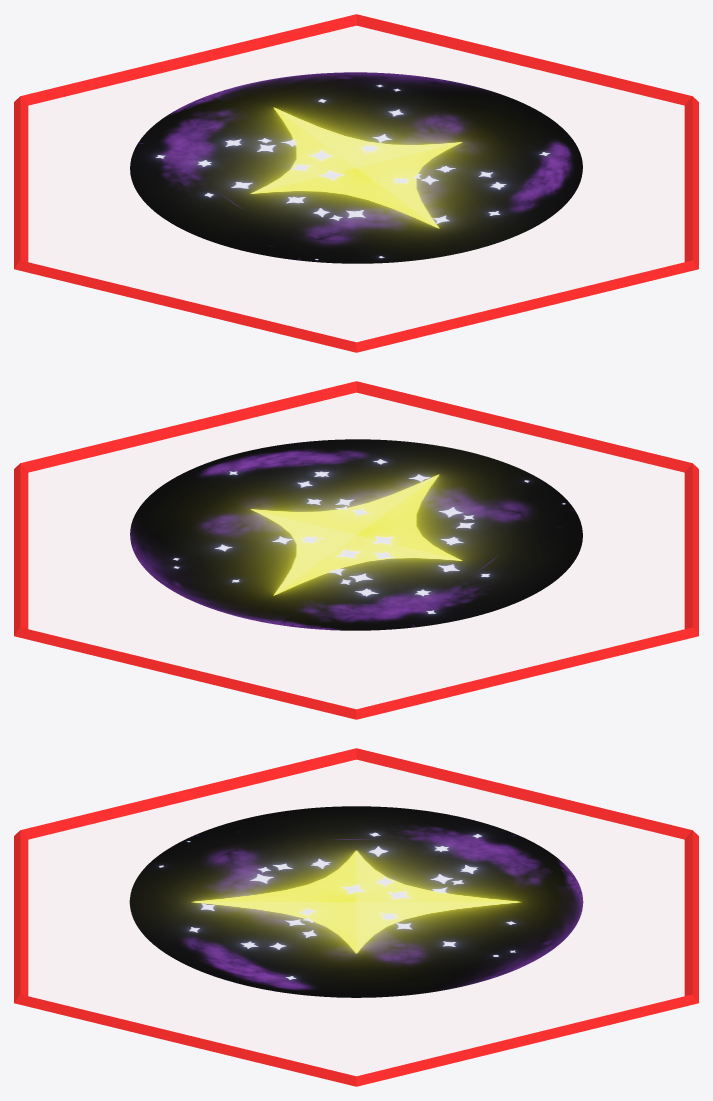
Rendered from hexagon.gltf.
3 views of the same model, one above another, from view 1: azimuth 30°, elevation 25°; view 2: azimuth 150°, elevation 25°; view 3: azimuth 270°, elevation 25° (orthographic).
Parts seen in each view (by area): view 1: Icon, Hex; view 2: Icon, Hex; view 3: Icon, Hex.
Boxes of the visible parts, x1,y1,x2,y2 form: Icon: [130, 72, 582, 263]; Hex: [14, 14, 698, 352]; Icon: [130, 439, 582, 630]; Hex: [14, 381, 698, 719]; Icon: [129, 806, 583, 997]; Hex: [14, 748, 698, 1086].
Size of the model in its own units: 2.03 by 0.05 by 1.76.
Materials: 2 (2 with a texture image).
